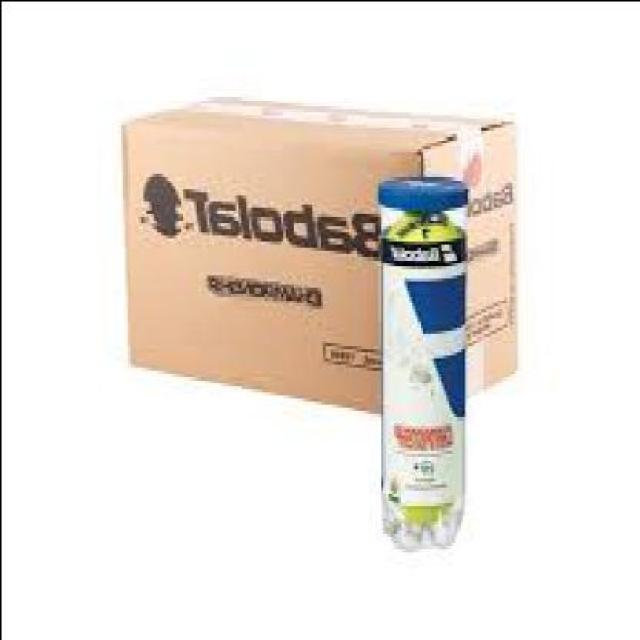CARDBOARD: (124, 96, 519, 410)
PLASTIC: (385, 197, 469, 545), (382, 172, 468, 210)
